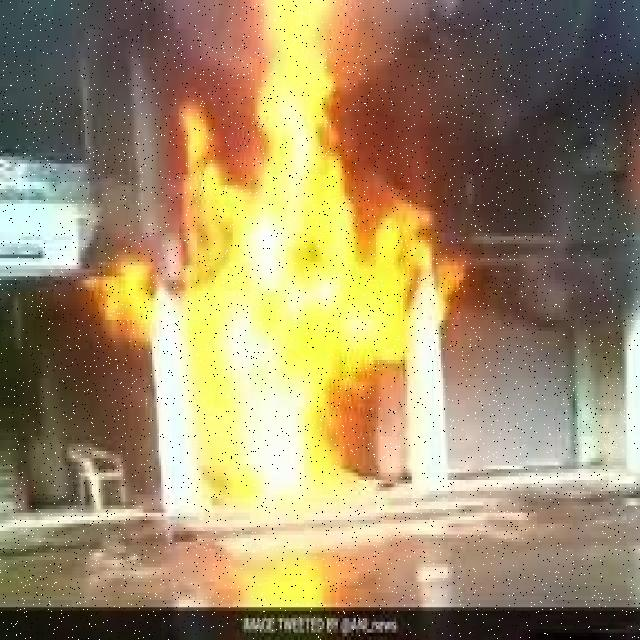fire: (162, 37, 444, 498)
